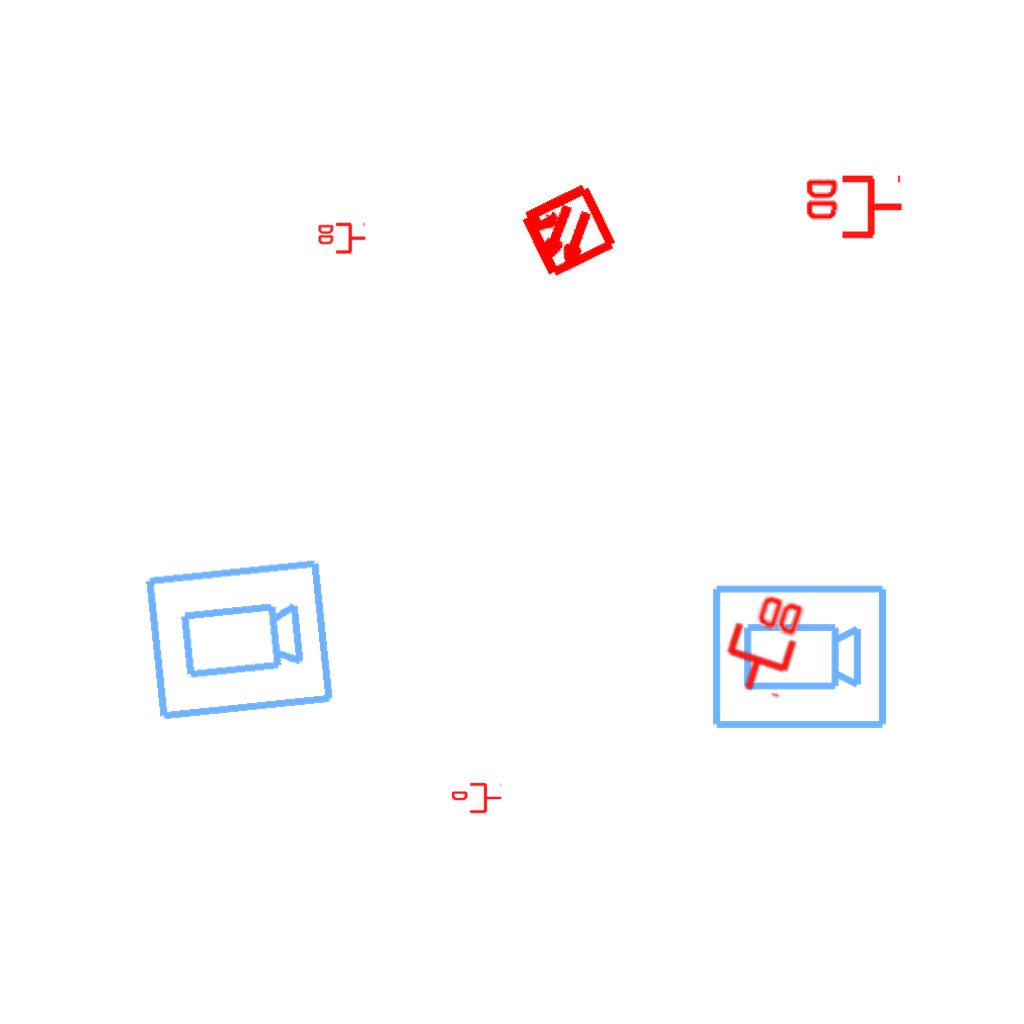Datenanschluss_einfach: (452, 781, 502, 815)
Datenanschluss_zweifach: (712, 582, 811, 703), (802, 174, 905, 243), (316, 222, 367, 256)
KFO_Kamera_mit_Festobjektiv: (140, 554, 338, 728), (708, 581, 890, 735)
OT_Multisensormelder_(Kombination_RMO_WMD): (490, 155, 643, 308)
